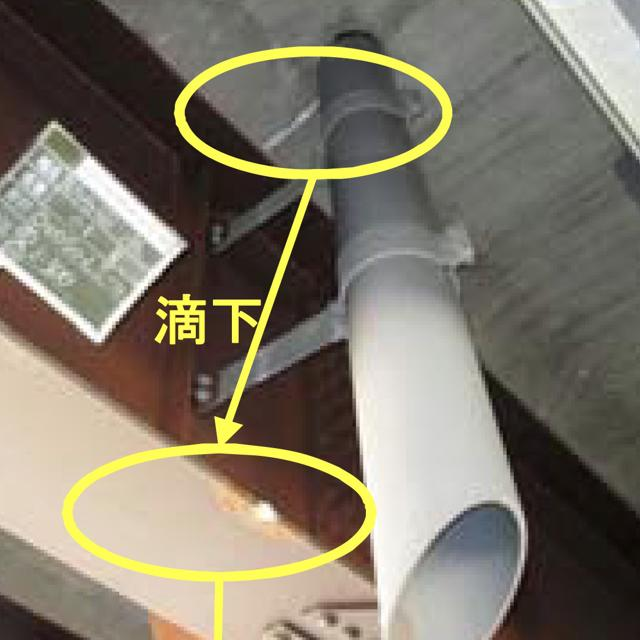freelime: (213, 473, 308, 541), (256, 94, 324, 156)
